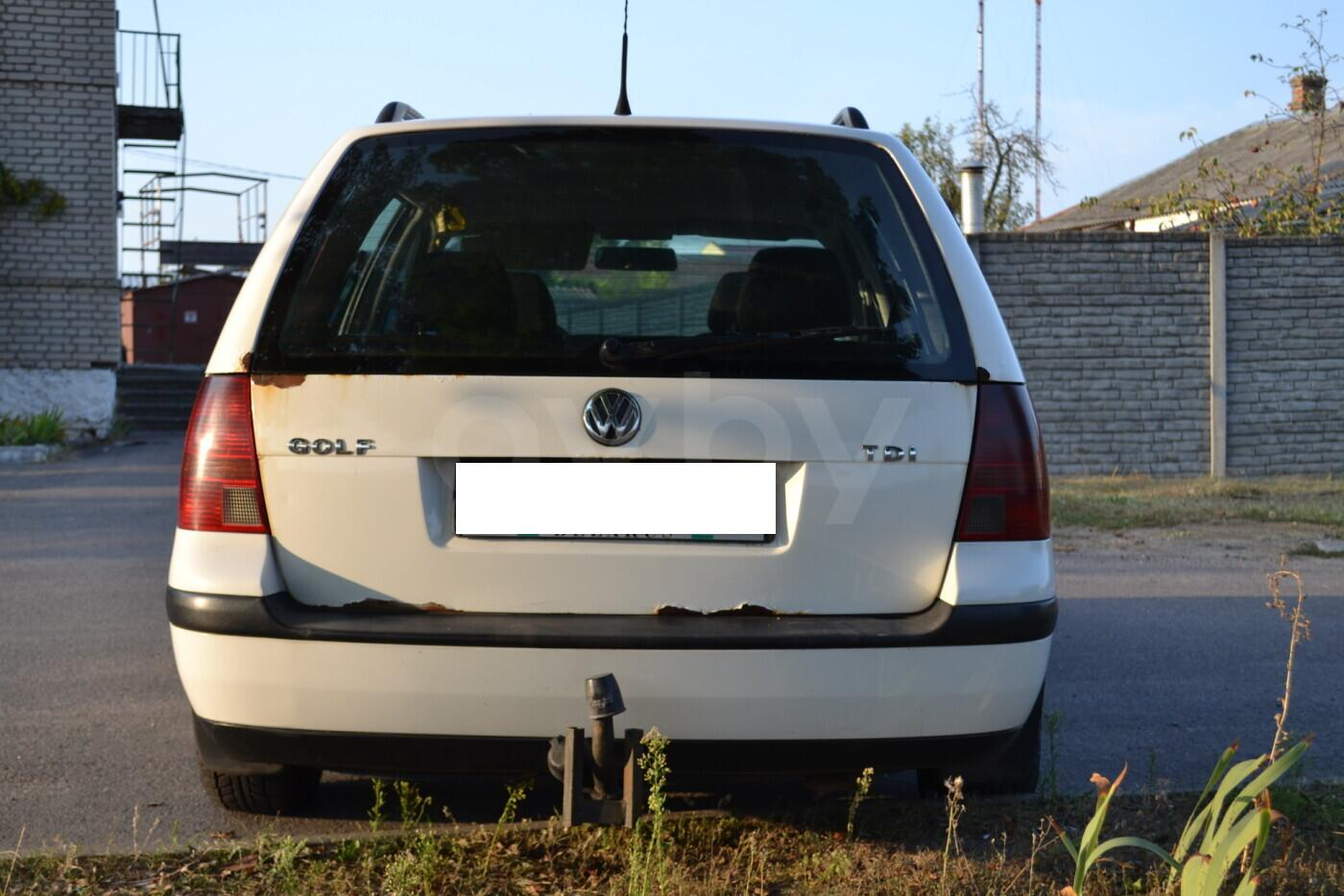Golf_1997-2006: (155, 111, 1074, 793)
